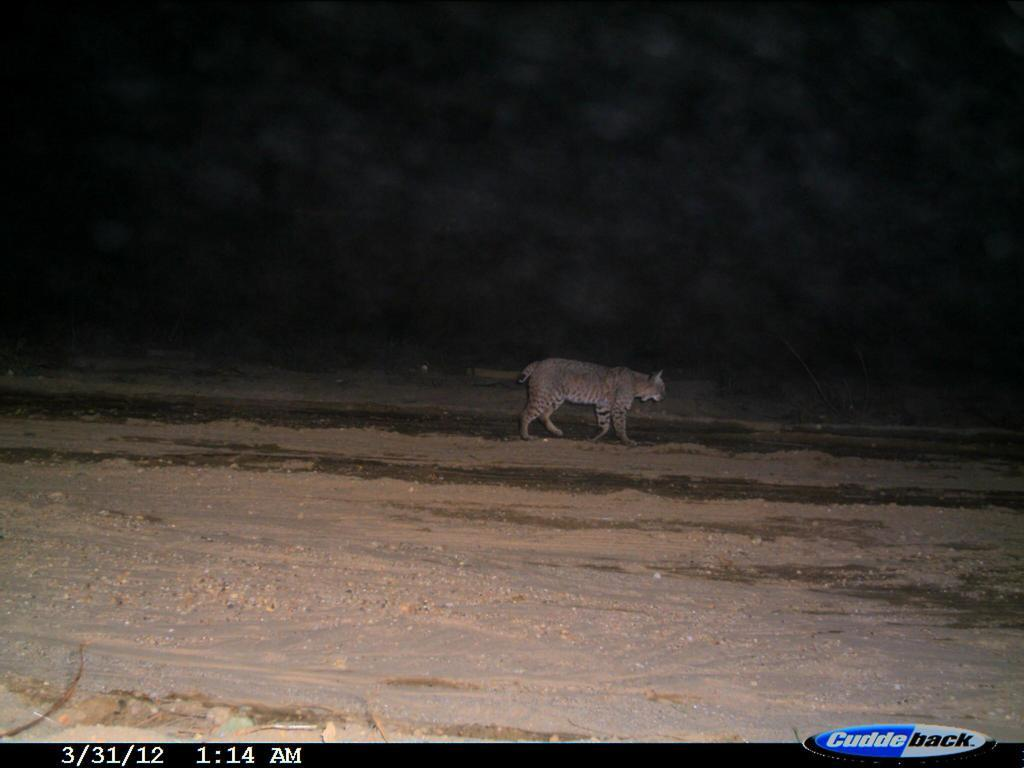bobcat: (515, 354, 675, 449)
